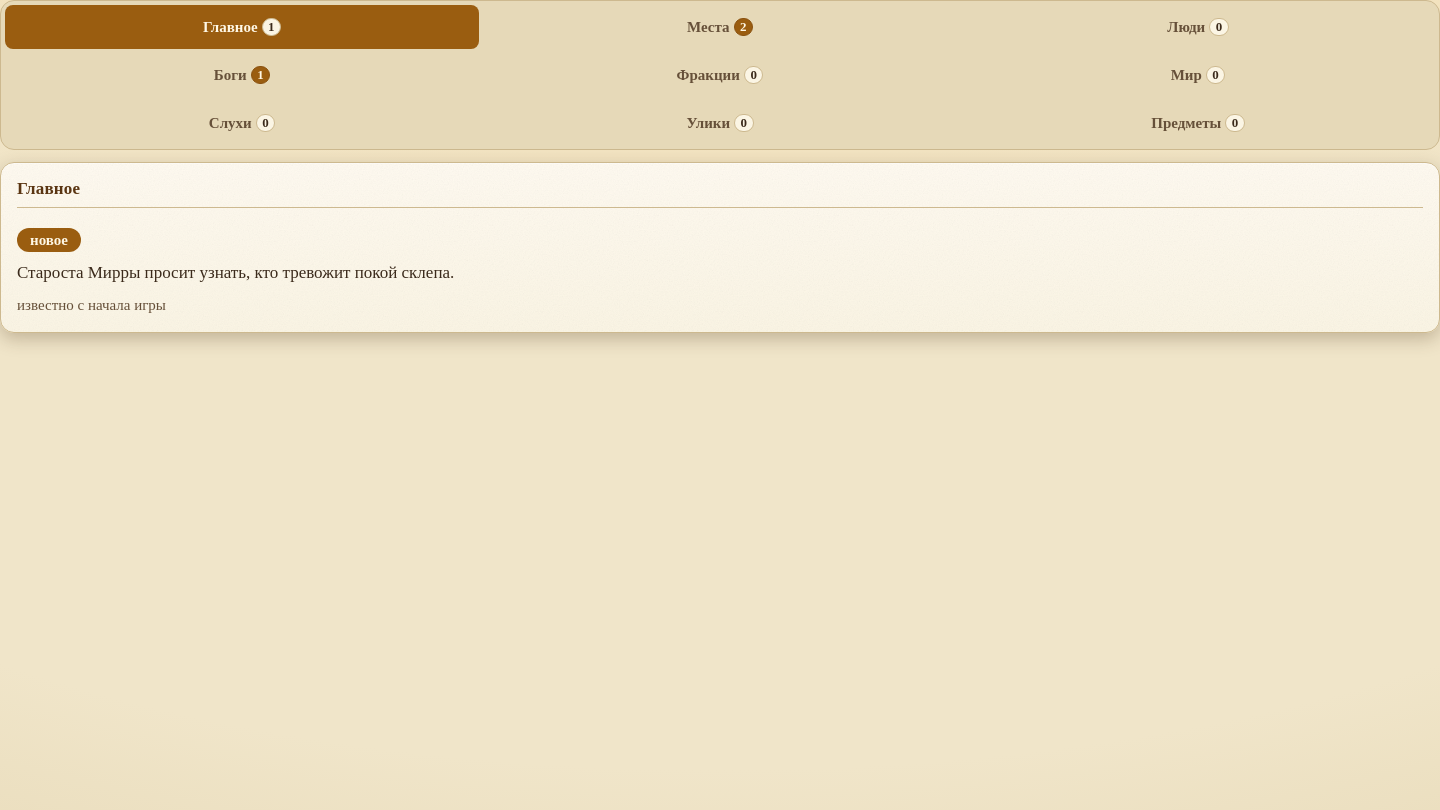
Test: разделы дневника › сначала открыт «Главное»; выбор раздела показывает только его записи
This screenshot has width=1440, height=810.
Expected: the element "Главное" is shown, [0, 162, 1439, 333]
Click the tab "Места 2": [720, 27] box [483, 5, 957, 49]
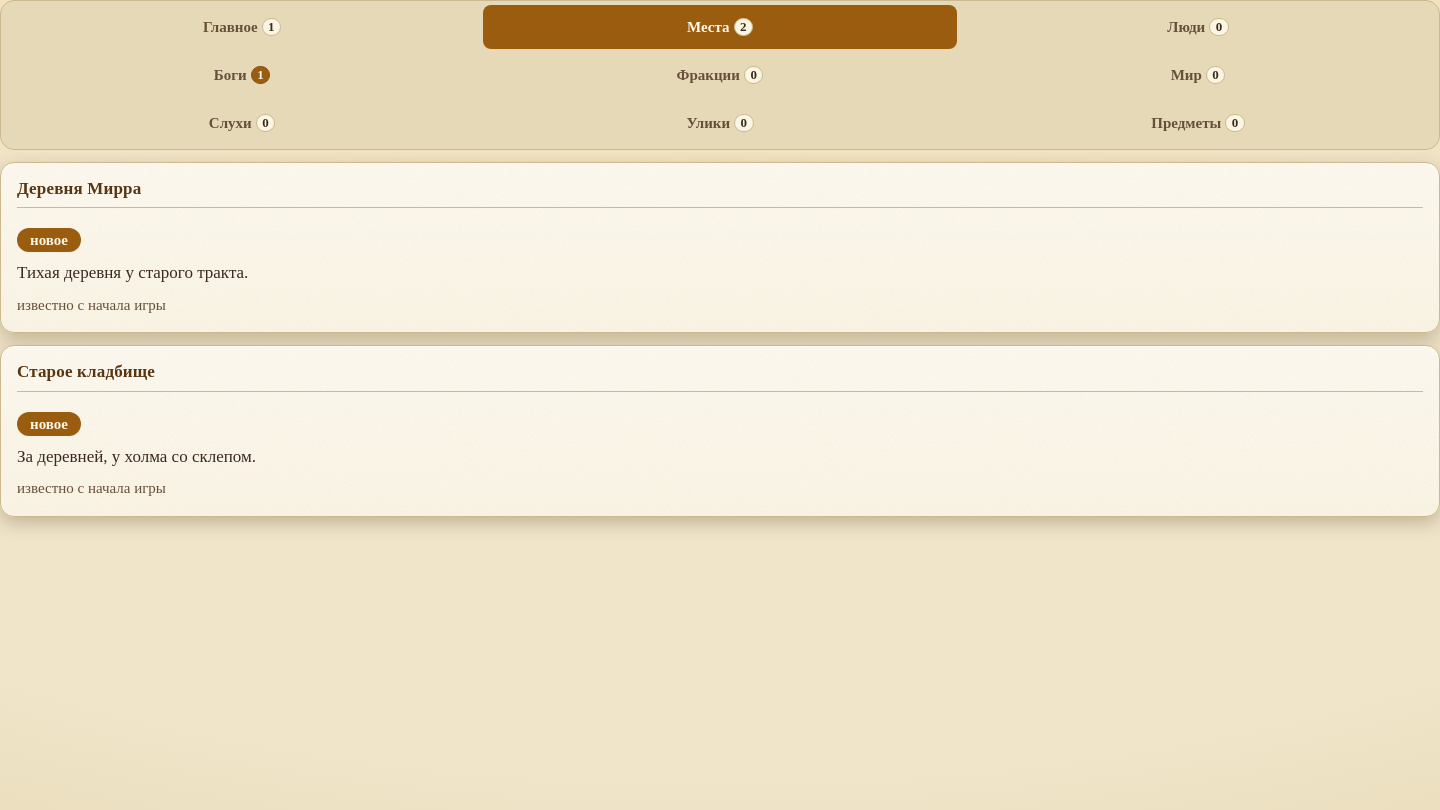
Now the element "Деревня Мирра" is shown, box [0, 162, 1439, 333]
Now the element "Старое кладбище" is shown, box [0, 345, 1439, 517]
